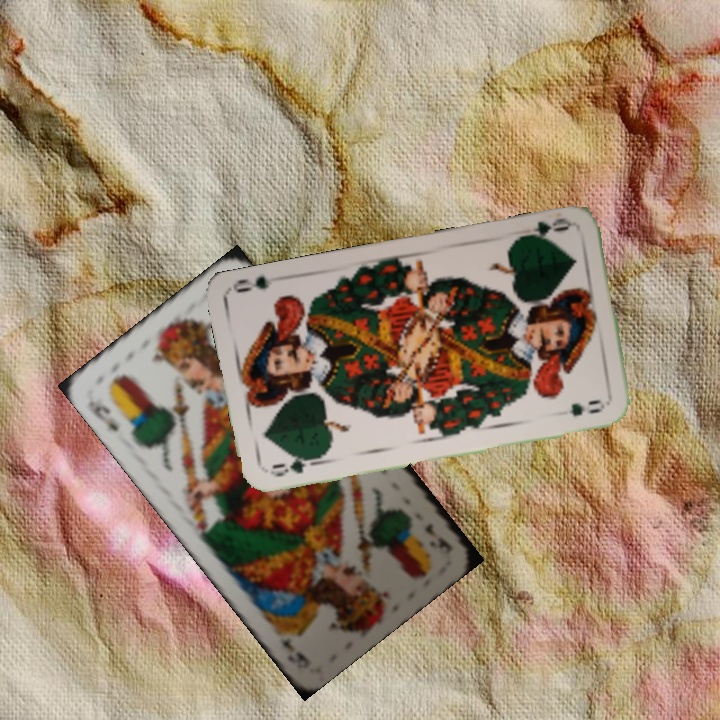EK: (83, 393, 122, 434), (420, 519, 455, 558)
GO: (515, 213, 573, 243), (266, 453, 324, 480)
